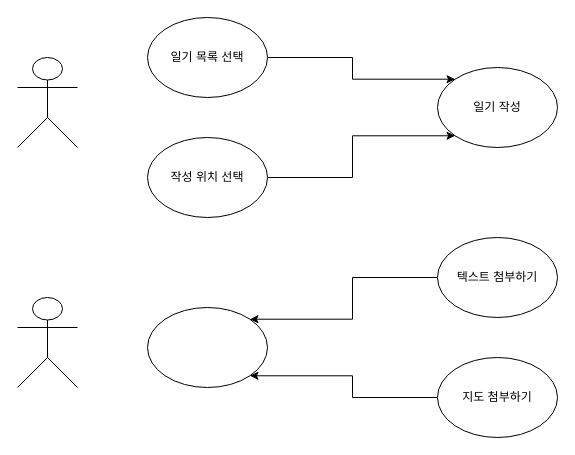
Image size: 575x455. Some labels were removed from this diagram. The shapes that lost their labels are listed below. From the top down, each one's box as (x1, y1, x2, y2) in pixels, then its label:
(16, 56, 78, 148): 회원
(16, 296, 78, 388): 개발자
(146, 306, 268, 388): 일기 생성
